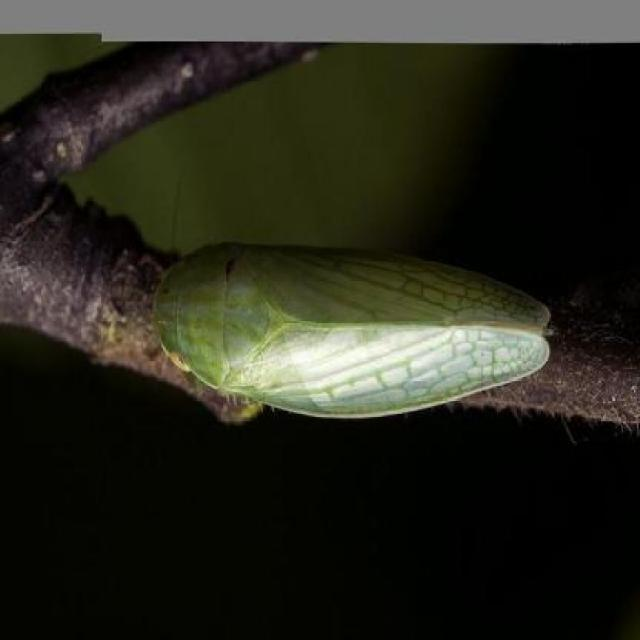green-leafhopper: (146, 232, 554, 420)
